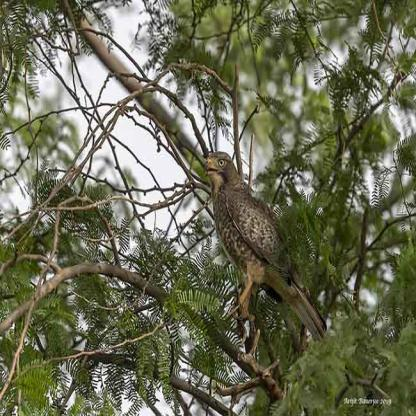Burung: (203, 150, 329, 350)
